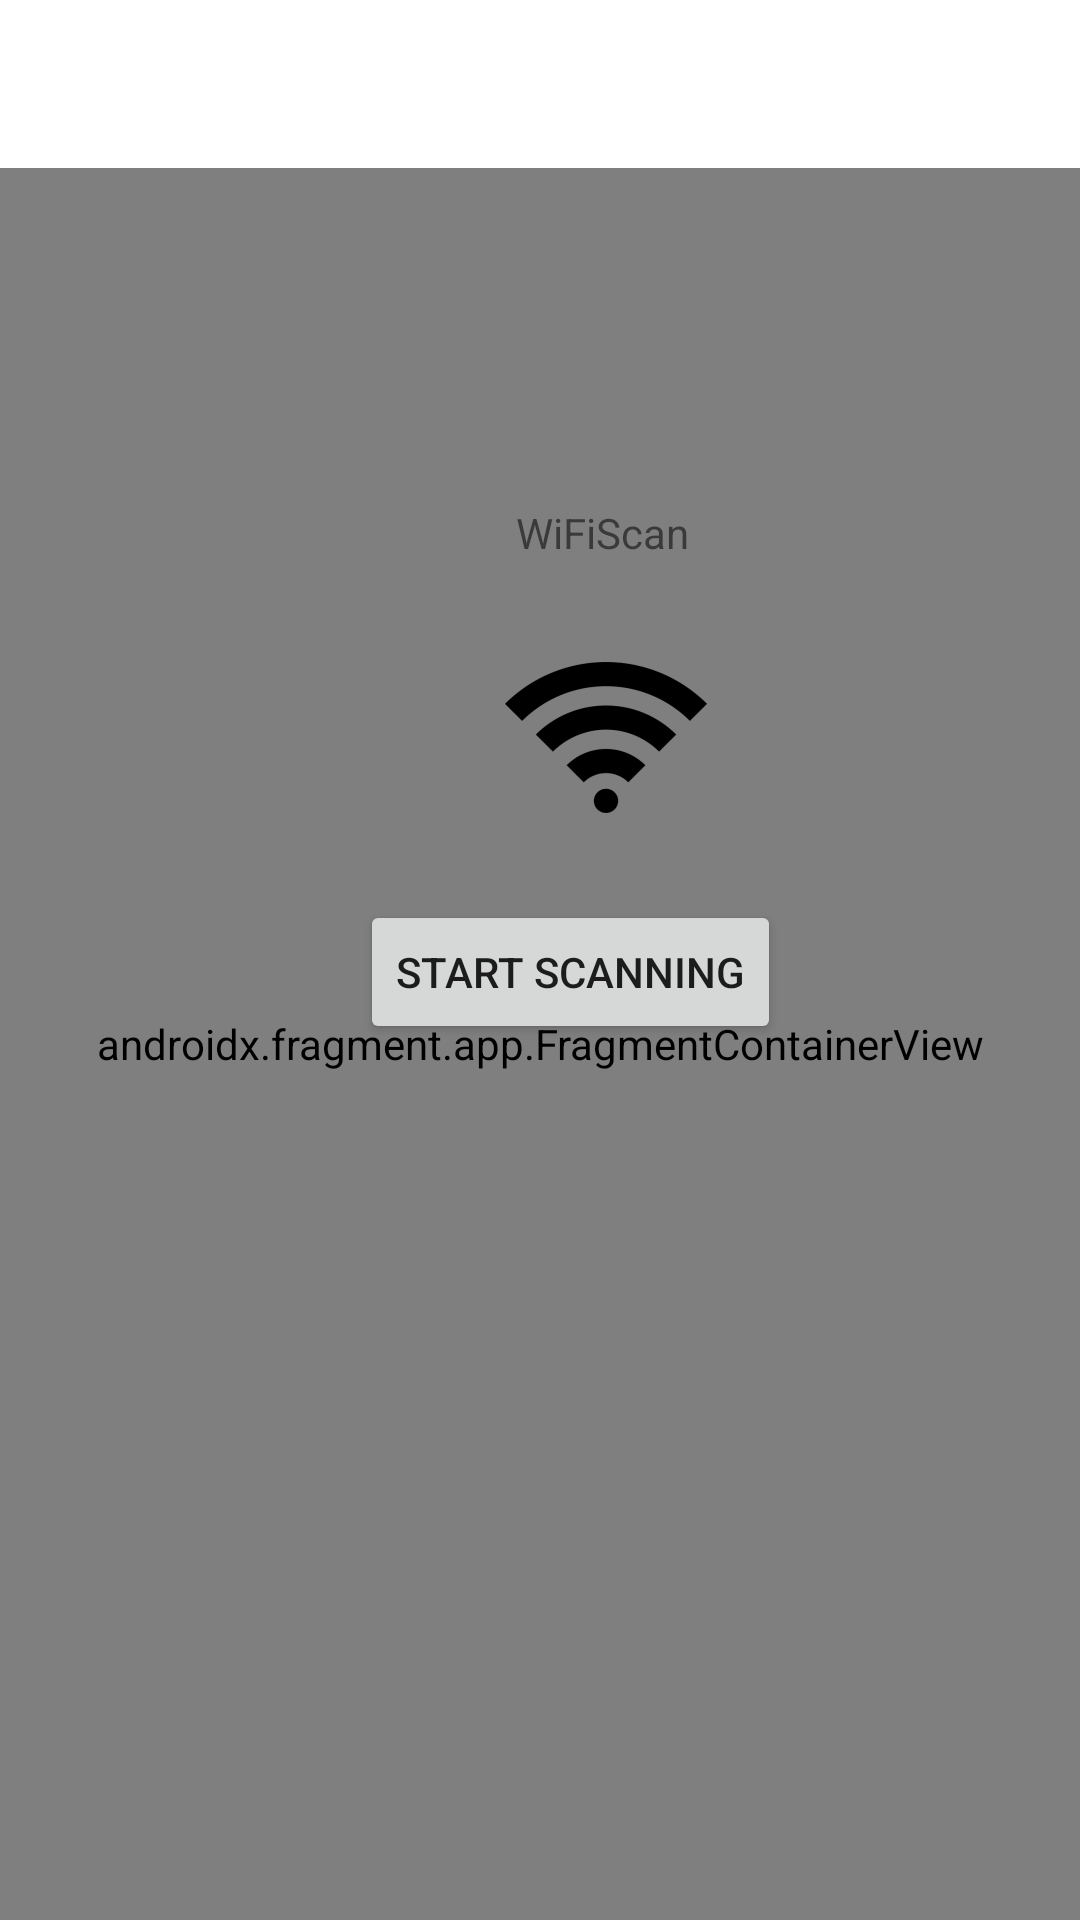

Point at icon controls on the screen. Image size 1080*1920, points as (x=x, y=y).
wifi symbol: (x=606, y=737)
